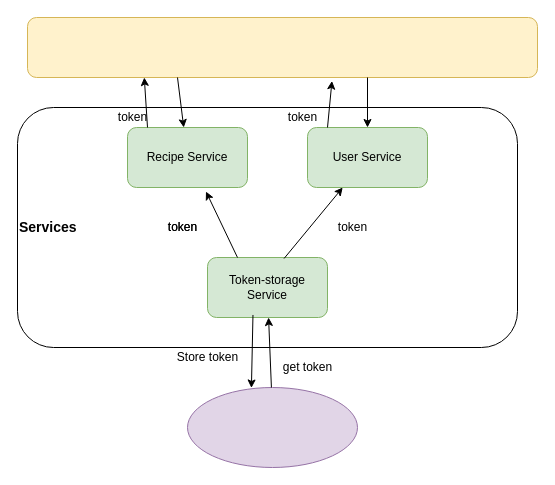
Image size: 555x485. Some labels were removed from this diagram. The centre of each missing label's shape, as x and y in pixels:
Local Storage: the point at 272,427
Server: the point at 282,47
